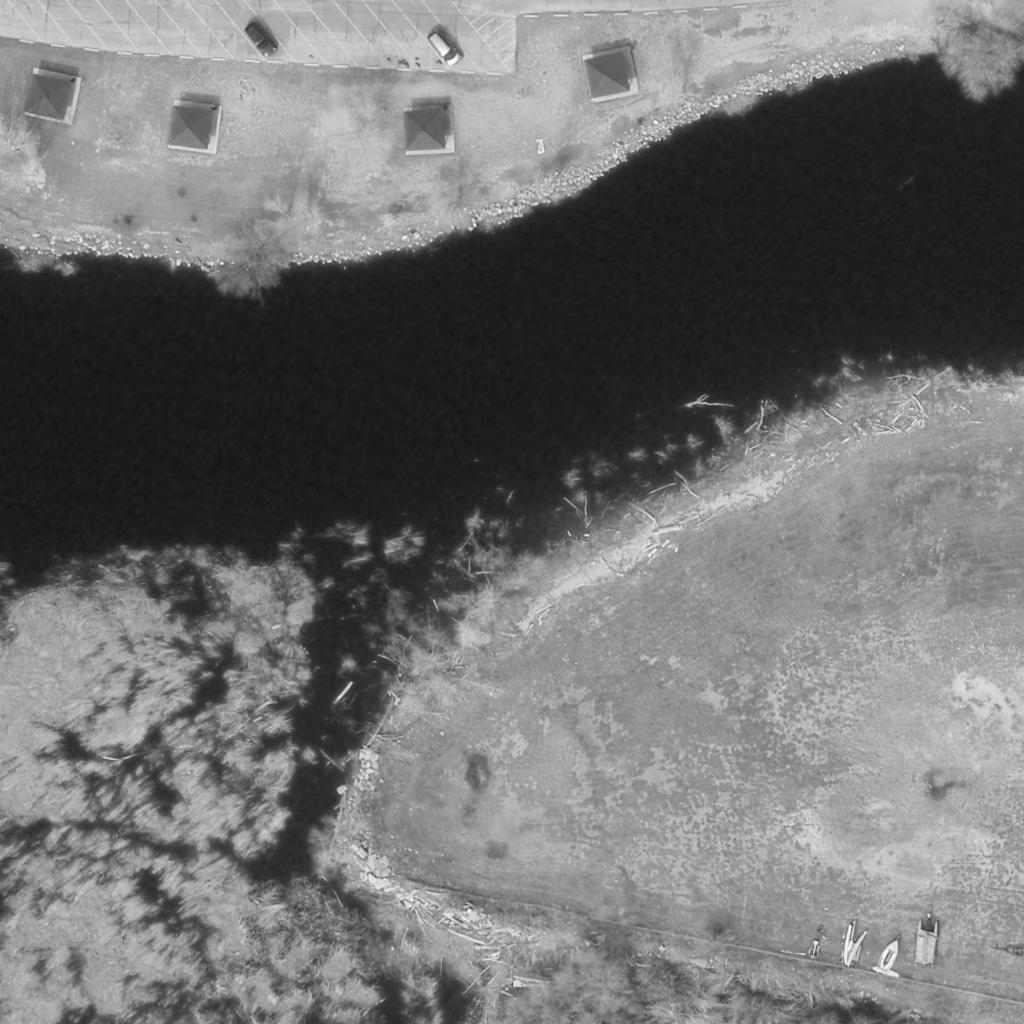vehicle: (871, 936, 907, 976), (427, 31, 463, 69), (243, 25, 277, 59)
